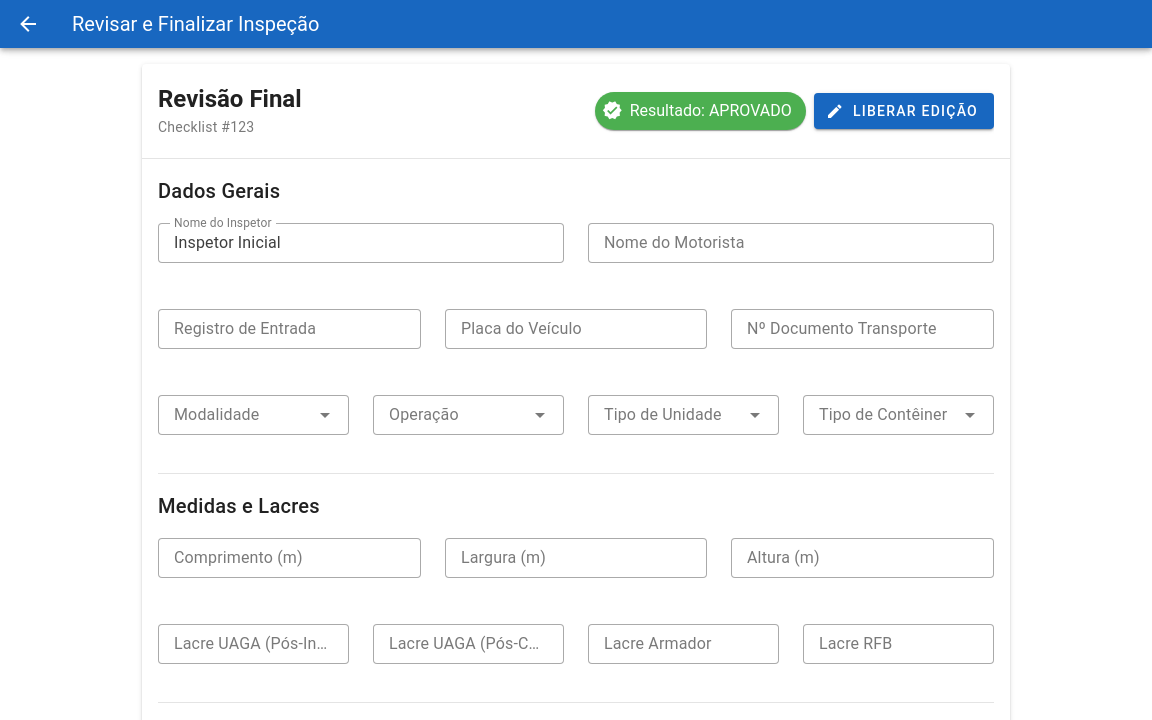
Test: Tela 4: Revisar e Finalizar Inspeção › Fluxo de Finalização › deve ter o botão de finalizar DESABILITADO enquanto estiver no modo de edição
The image size is (1152, 720).
Click the button with test id "edit-btn". click: (904, 111)
box: [814,93,994,129]
(page scrolled)
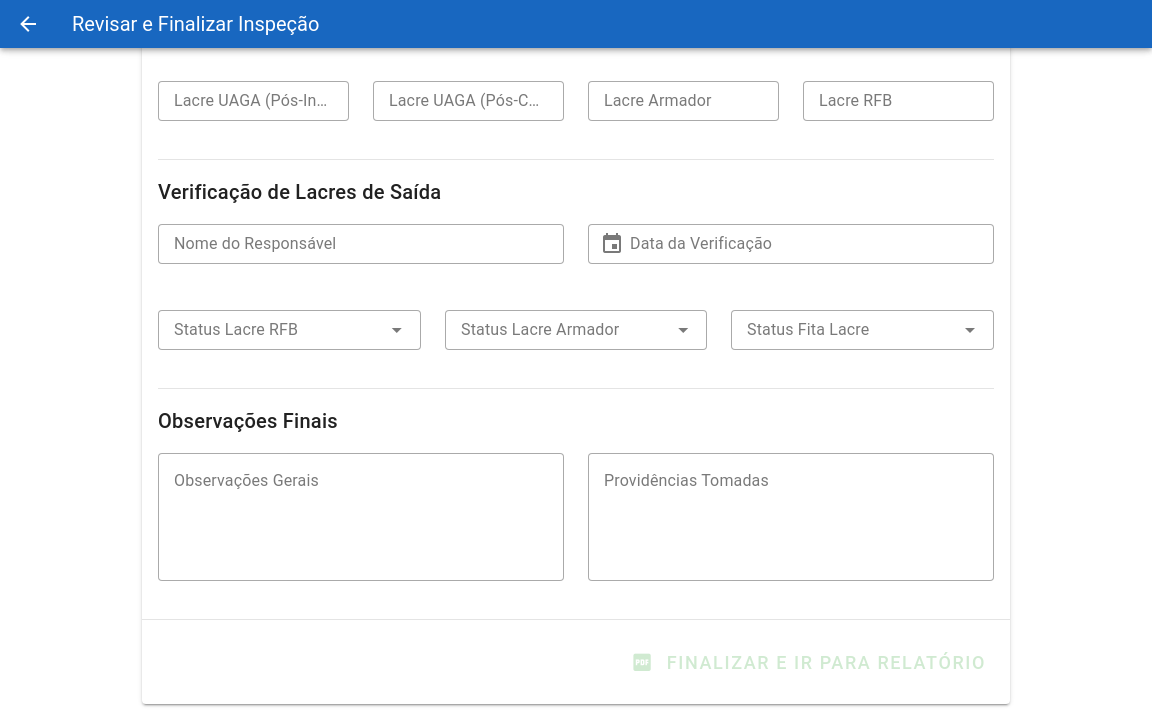
Expected: the button with test id "submit-finalize-btn" is disabled, [628,636,994,688]
